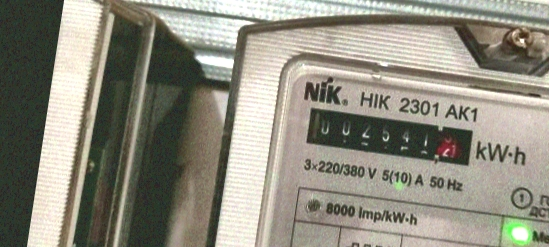0: (317, 114, 333, 136), (338, 115, 353, 137)
1: (418, 125, 432, 149)
2: (357, 117, 375, 141)
4: (398, 122, 412, 144)
5: (377, 120, 393, 144)
6: (439, 144, 451, 157)
screen: (291, 94, 486, 176)
